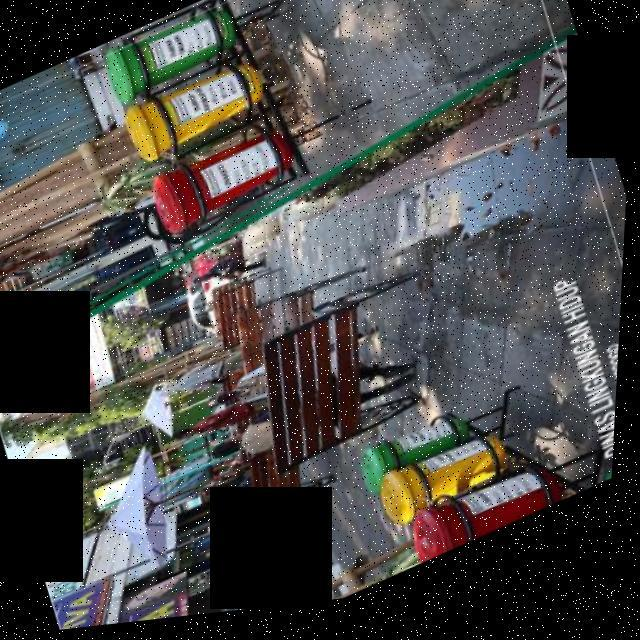bin: (134, 113, 323, 256), (118, 49, 287, 176), (88, 0, 260, 120), (396, 466, 571, 581), (369, 431, 528, 545), (346, 409, 485, 512)
